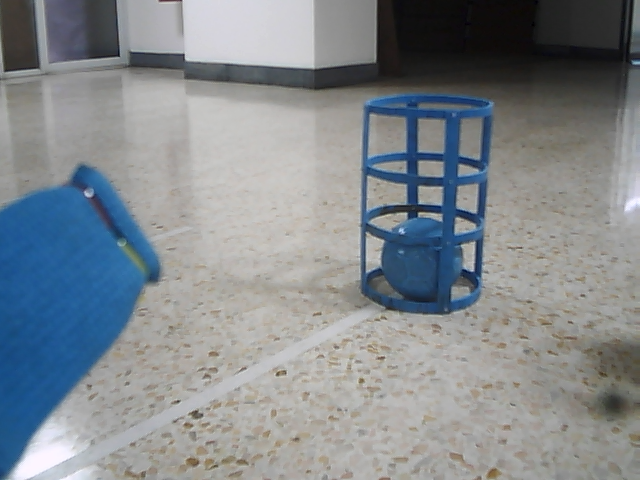Blue ball: (379, 217, 465, 307)
Cyro: (355, 93, 498, 318)
